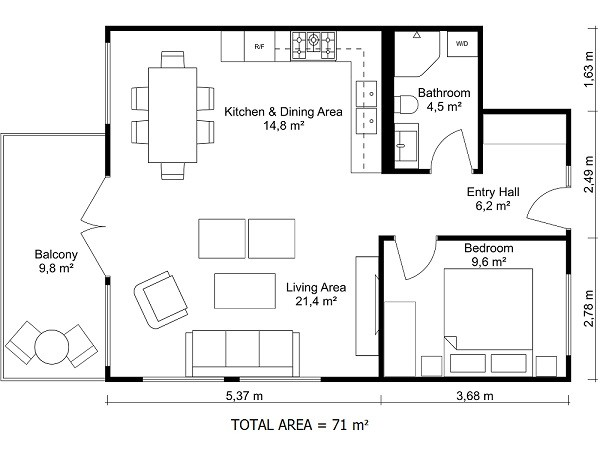door: (68, 179, 120, 249), (396, 227, 442, 286)
wall: (381, 31, 395, 183), (350, 377, 574, 386), (478, 25, 485, 177)
window: (101, 44, 121, 124), (102, 285, 115, 364)
